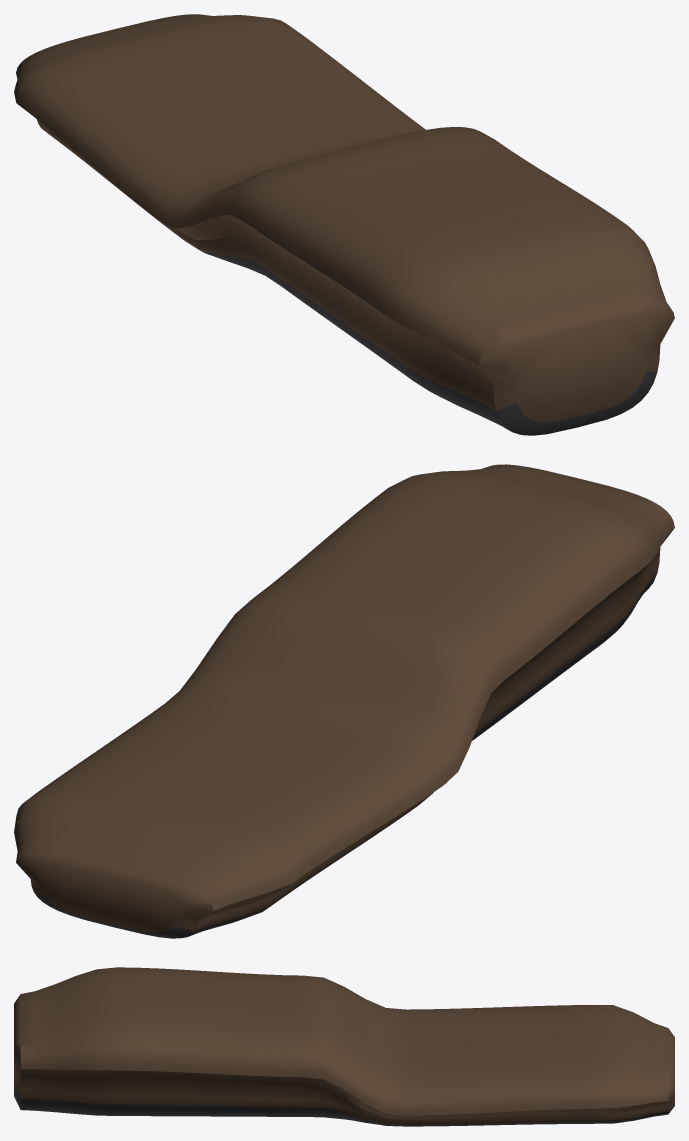
The model's file is touring.glb.
3 views of the same model, one above another, from view 1: azimuth 30°, elevation 25°; view 2: azimuth 150°, elevation 25°; view 3: azimuth 270°, elevation 25° (orthographic). The views are drawn at different scales.
Parts seen in each view (by area): view 1: lod0; view 2: lod0; view 3: lod0.
Part boxes in pixels (left/top/right/bottom): lod0: left=14, top=14, right=674, bottom=435; lod0: left=14, top=464, right=674, bottom=938; lod0: left=14, top=967, right=674, bottom=1126.
Size of what is drawn, in the model's own units: 0.3491 by 0.165 by 1.
